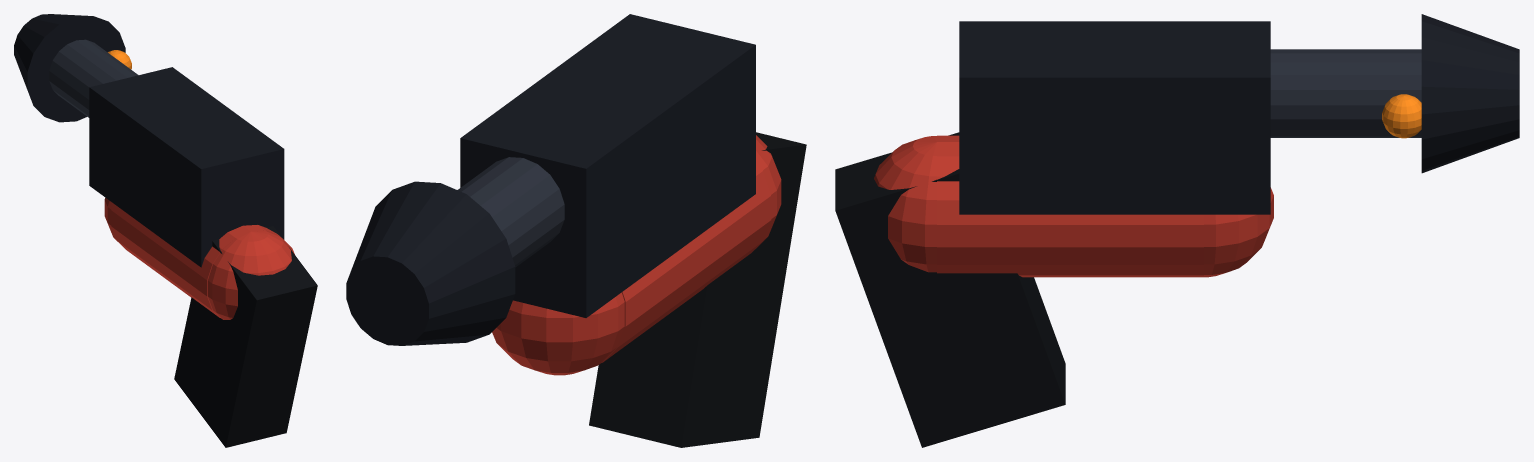
File: flame.glb
3 views of the same model, side by side, from view 1: azimuth 30°, elevation 25°; view 2: azimuth 150°, elevation 25°; view 3: azimuth 270°, elevation 25° (orthographic). The views are drawn at different scales.
Visible parts, largest first — view 1: Cube, Cube.001, Cone, Cylinder, Sphere.001, Cylinder.001; view 2: Cube, Cube.001, Cone, Cylinder, Sphere, Cylinder.001, Sphere.001; view 3: Cube, Cube.001, Cylinder, Cone, Cylinder.001, Sphere.001, Sphere, Sphere.002.
Part boxes in pixels (box(x1,y1,x2,y2)): Cube: box(89, 67, 284, 267); Cube.001: box(174, 226, 317, 447); Cone: box(14, 14, 125, 122); Cylinder: box(111, 203, 279, 317); Sphere.001: box(208, 230, 294, 319); Cylinder.001: box(49, 39, 138, 117); Cube: box(460, 14, 755, 317); Cube.001: box(589, 132, 806, 447); Cone: box(346, 181, 515, 345); Cylinder: box(602, 160, 771, 362); Sphere: box(492, 292, 624, 375); Cylinder.001: box(457, 157, 564, 267); Sphere.001: box(756, 135, 781, 248); Cube: box(959, 21, 1270, 214); Cube.001: box(835, 132, 1065, 447); Cylinder: box(937, 135, 1203, 277); Cone: box(1421, 14, 1519, 173); Cylinder.001: box(1270, 49, 1421, 137); Sphere.001: box(874, 136, 936, 272); Sphere: box(1204, 187, 1273, 277); Sphere.002: box(1382, 94, 1421, 138).
Size of the model in its own units: 0.3545 by 1.01 by 1.54.
